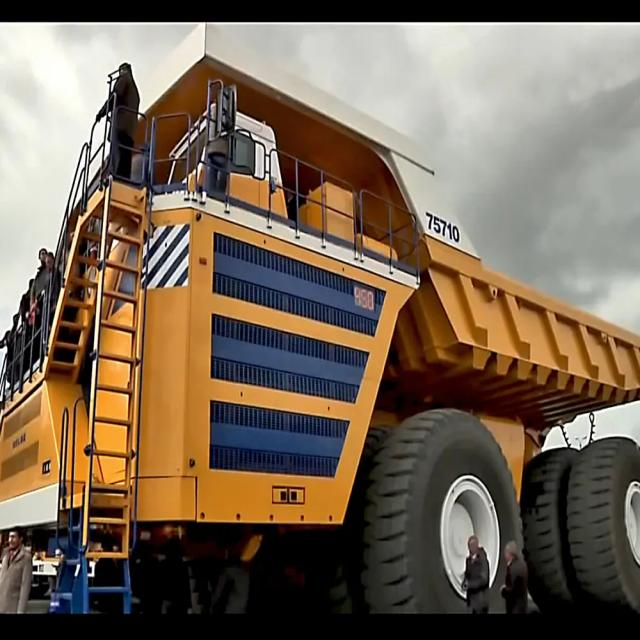dump_truck: (1, 23, 640, 612)
